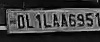1: (35, 12, 43, 30), (96, 11, 100, 29)
5: (84, 11, 95, 29)
6: (68, 13, 77, 29)
9: (76, 13, 85, 29)
A: (60, 12, 69, 29), (52, 14, 60, 29)
D: (18, 13, 25, 30)
L: (42, 12, 52, 30), (25, 13, 35, 30)
